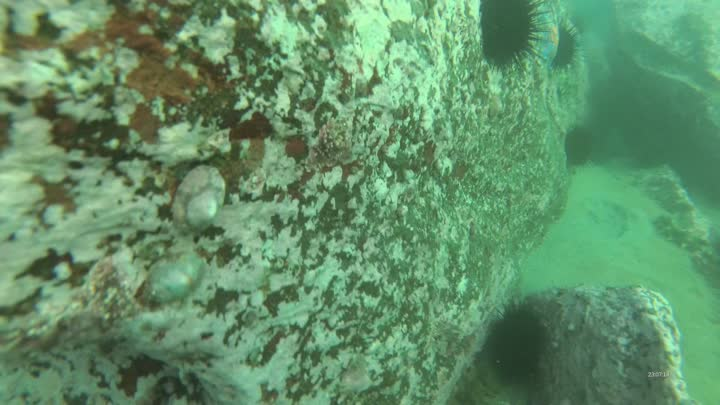echinus: (485, 297, 561, 388), (478, 1, 555, 74), (563, 123, 597, 169), (554, 26, 580, 75)
holothurian: (655, 212, 708, 251)
starfish: (537, 12, 562, 65)
